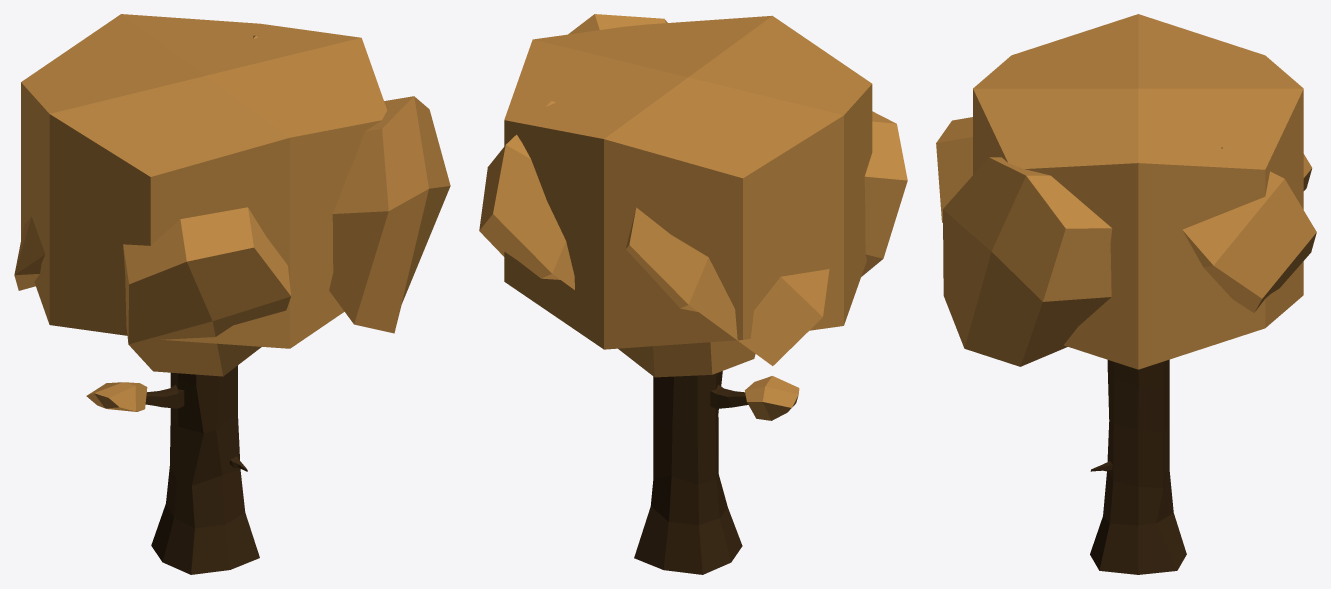
Rendered from tree.dae.
3 views of the same model, side by side, from view 1: azimuth 30°, elevation 25°; view 2: azimuth 150°, elevation 25°; view 3: azimuth 270°, elevation 25° (orthographic). The views are drawn at different scales.
Visible parts, largest first — view 1: Trunk; view 2: Trunk; view 3: Trunk.
Boxes of the visible parts, <box> form: Trunk: <box>14,14,450,574</box>; Trunk: <box>479,14,907,574</box>; Trunk: <box>936,14,1316,574</box>.
Size of the model in its own units: 16.22 by 15.21 by 20.53.
